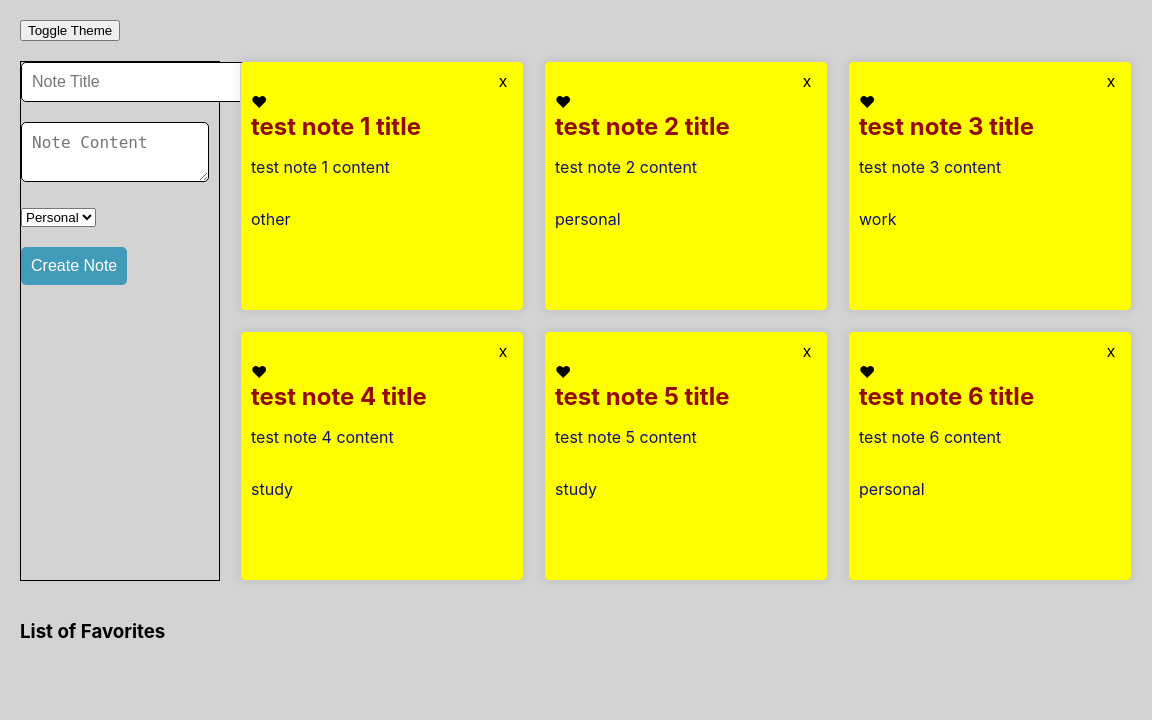
Test case: Delete SitckysiNote › deletes all notes
Step 1. Click the 1st button "x" → (503, 82), box [493,72,513,92]
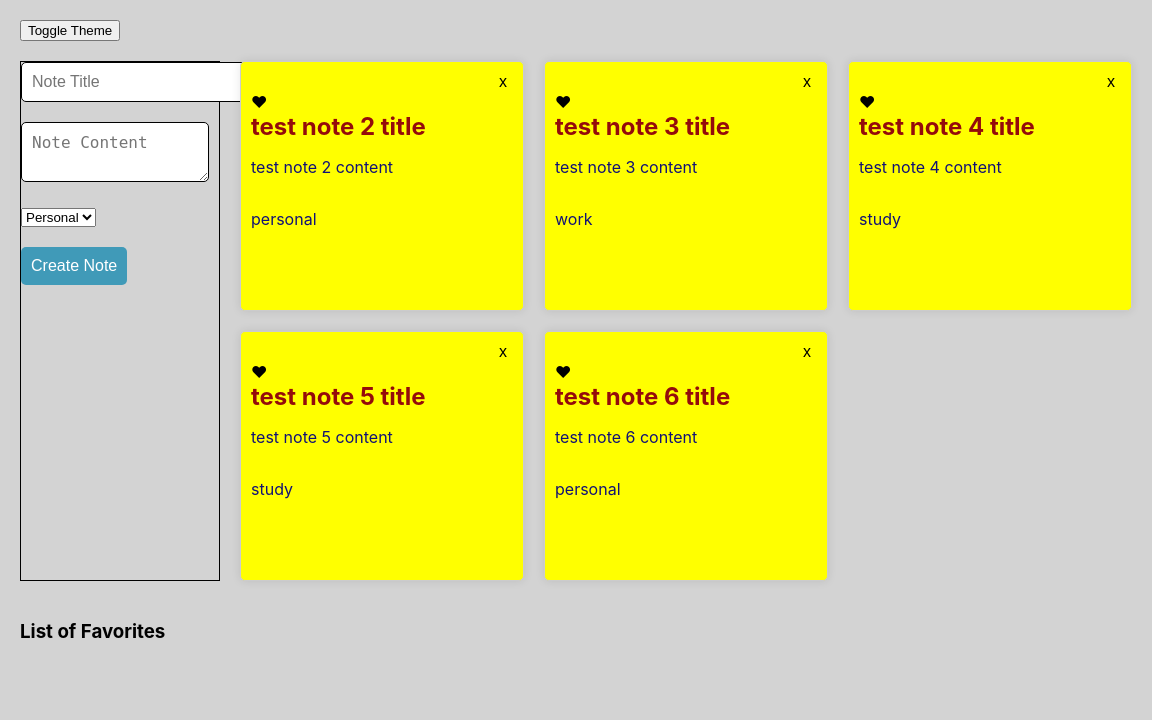
Step 2. Click the 1st button "x" → (503, 82), box [493,72,513,92]
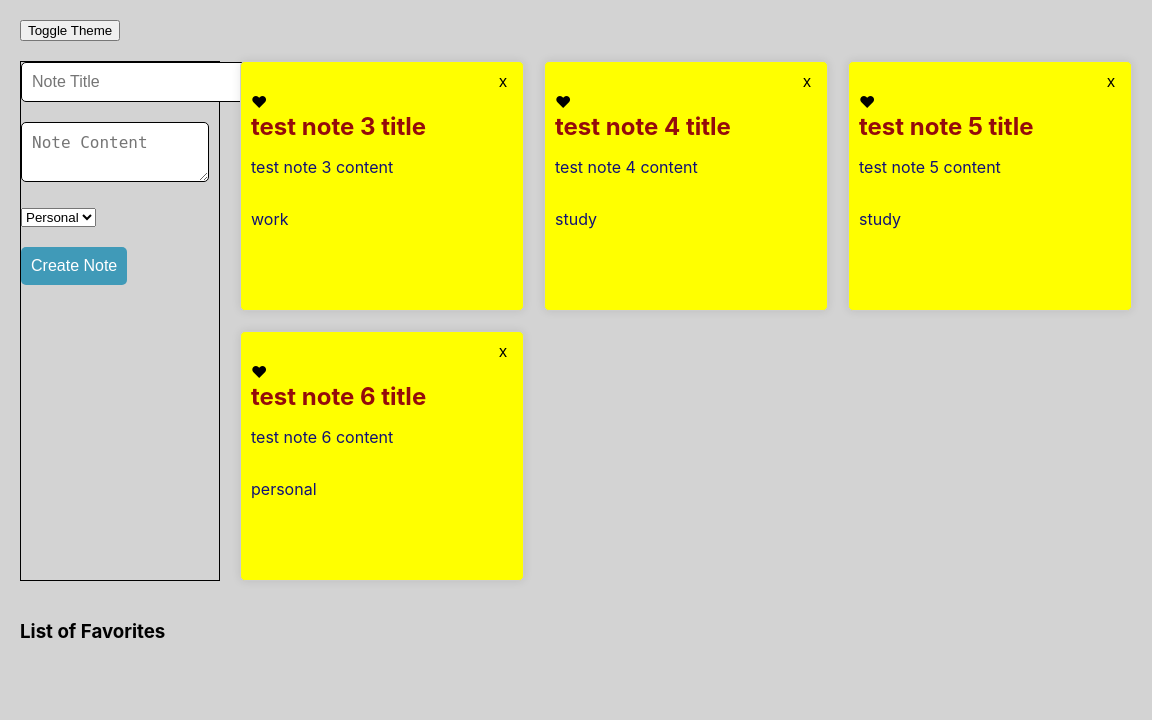
Step 3. Click the 1st button "x" → (503, 82), box [493,72,513,92]
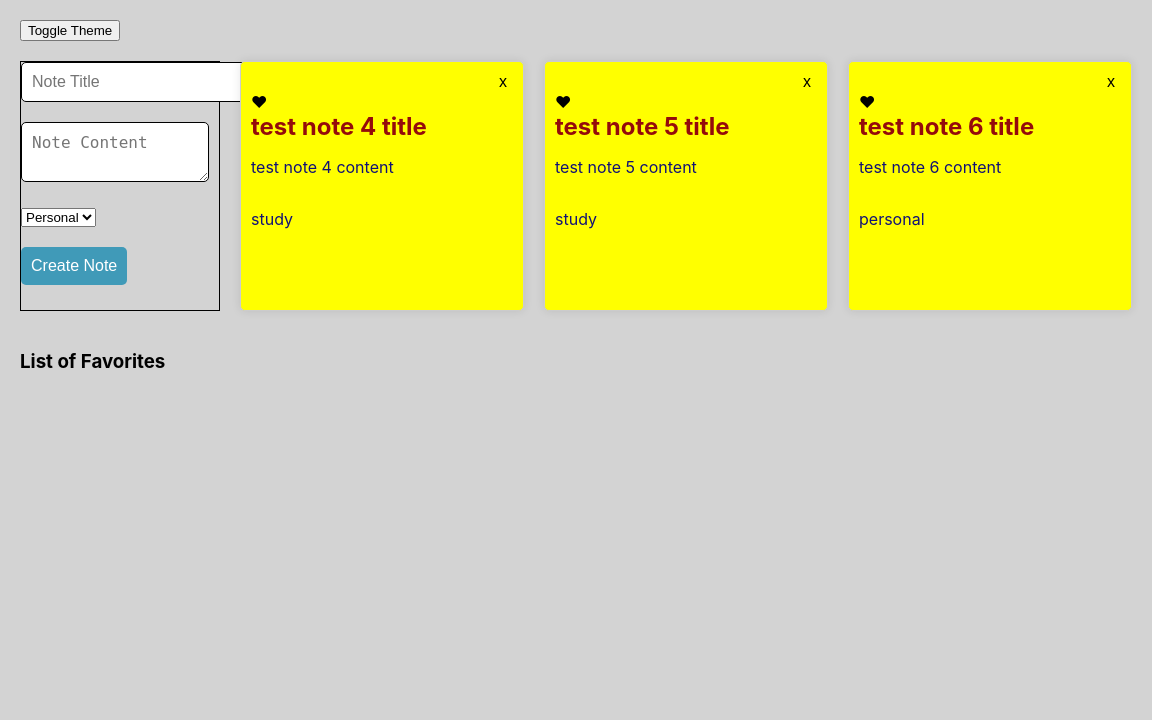
Step 4. Click the 1st button "x" → (503, 82), box [493,72,513,92]
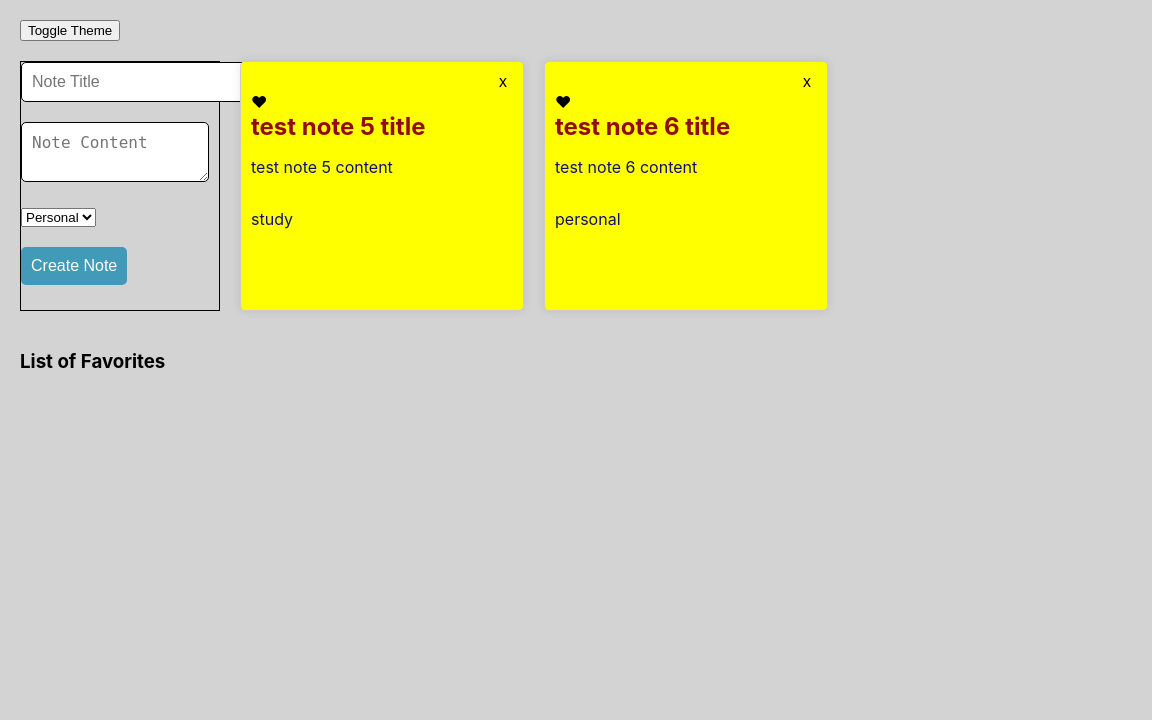
Step 5. Click the 1st button "x" → (503, 82), box [493,72,513,92]
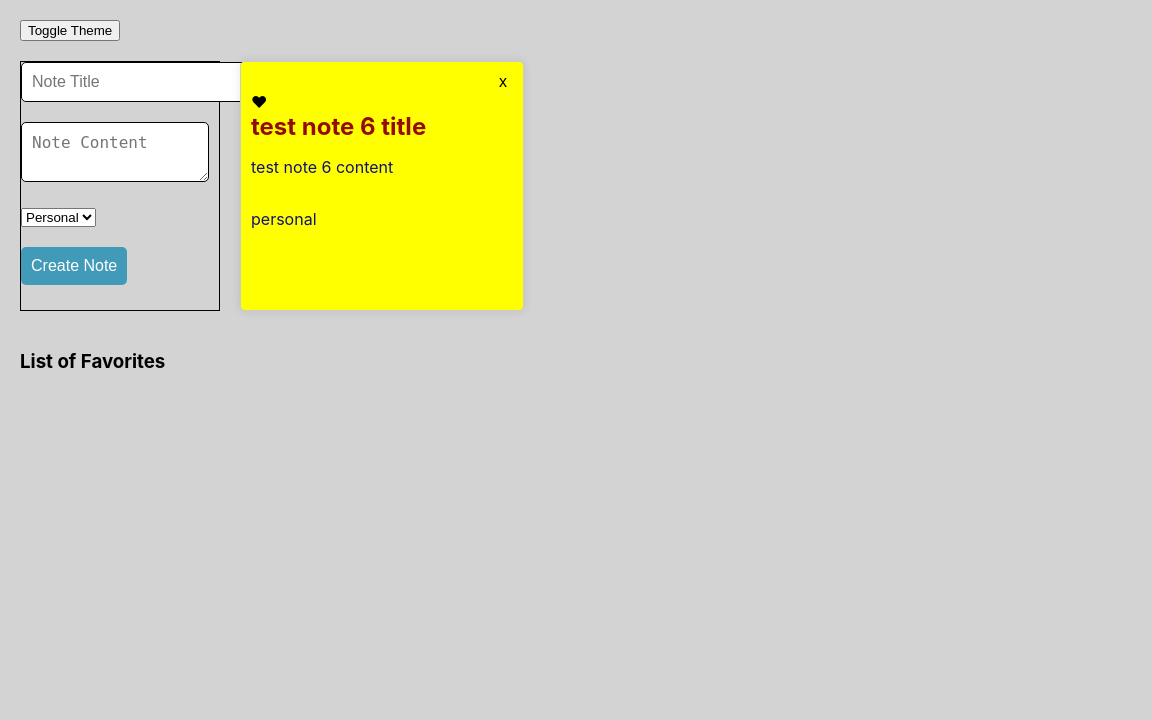
Step 6. Click the button "x" → (503, 82), box [493,72,513,92]
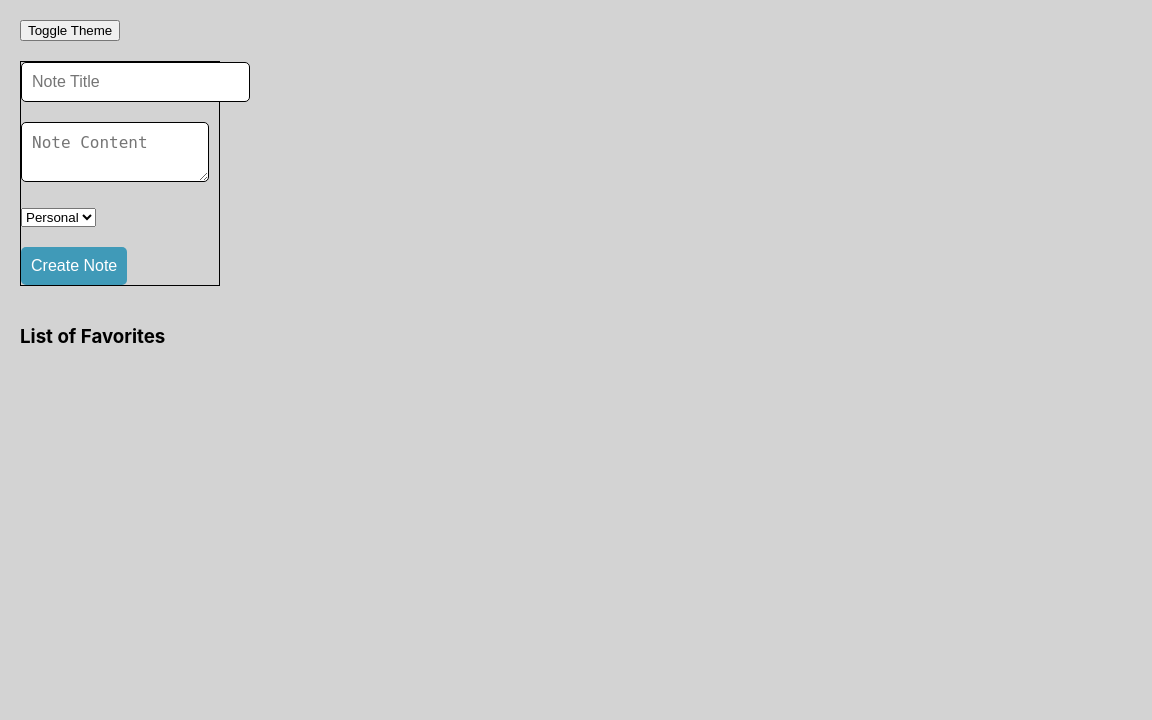
Expected: the heading "test note 1 title" is not shown
Expected: the heading "test note 6 title" is gone
